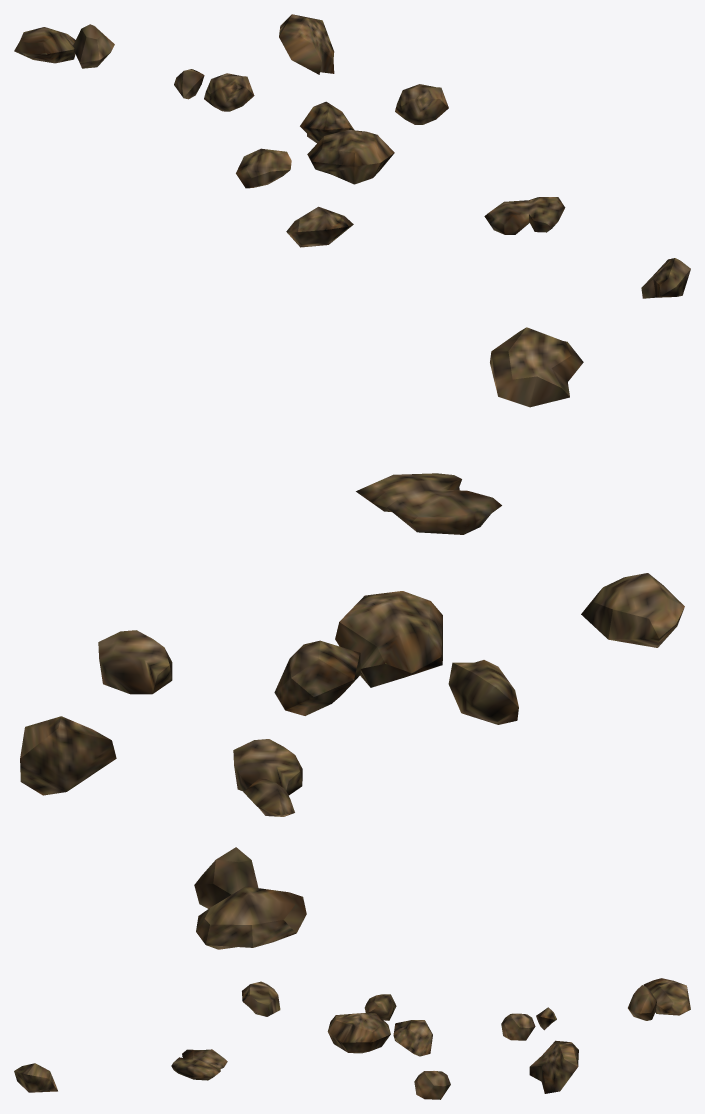
The picture shows the model from 3 angles, top to bottom: view 1: azimuth 30°, elevation 25°; view 2: azimuth 150°, elevation 25°; view 3: azimuth 270°, elevation 25°; orthographic projection. The views are drawn at different scales.
Visible parts, largest first — view 1: wj056; view 2: wj056; view 3: wj056.
Boxes of the visible parts, x1,y1,x2,y2 form: wj056: [14, 14, 690, 298]; wj056: [20, 327, 684, 949]; wj056: [14, 978, 690, 1099].
Bounding box in the file's own units: 366 × 67.6 × 979.
